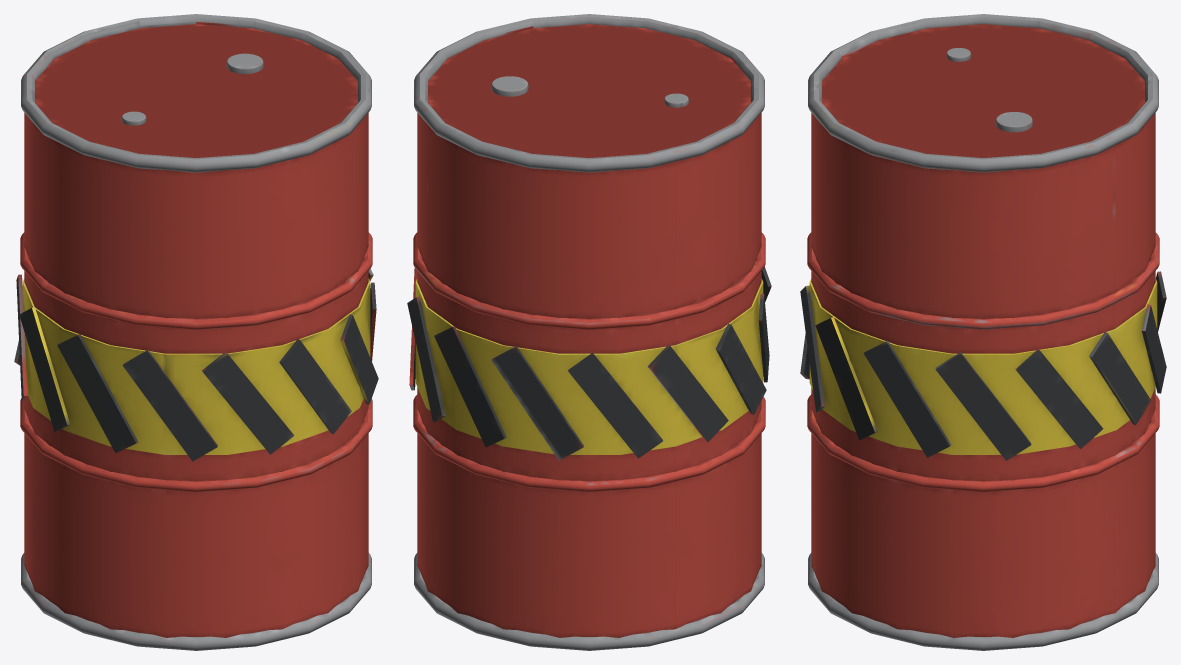
Rendered from redbarrel.fbx.
3 views of the same model, side by side, from view 1: azimuth 30°, elevation 25°; view 2: azimuth 150°, elevation 25°; view 3: azimuth 270°, elevation 25° (orthographic).
Parts seen in each view (by area): view 1: redbarrel; view 2: redbarrel; view 3: redbarrel.
Boxes of the visible parts, x1,y1,x2,y2 form: redbarrel: [14, 14, 378, 650]; redbarrel: [407, 14, 771, 650]; redbarrel: [800, 14, 1166, 650].
Bounding box in the file's own units: 0.5847 × 0.8796 × 0.5942.
